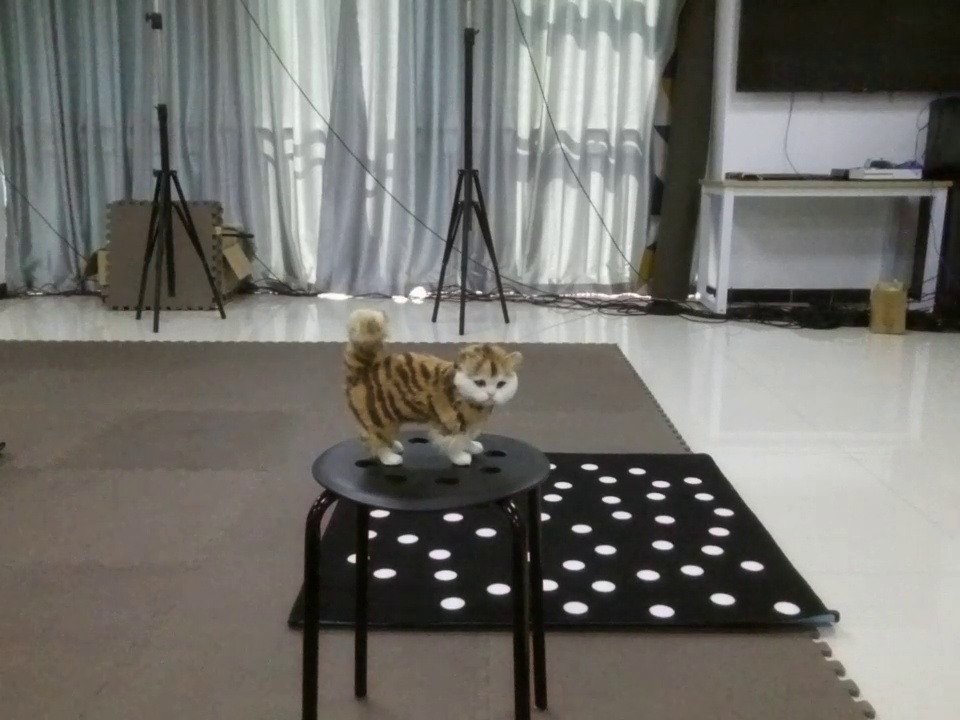cat: (305, 312, 544, 473)
